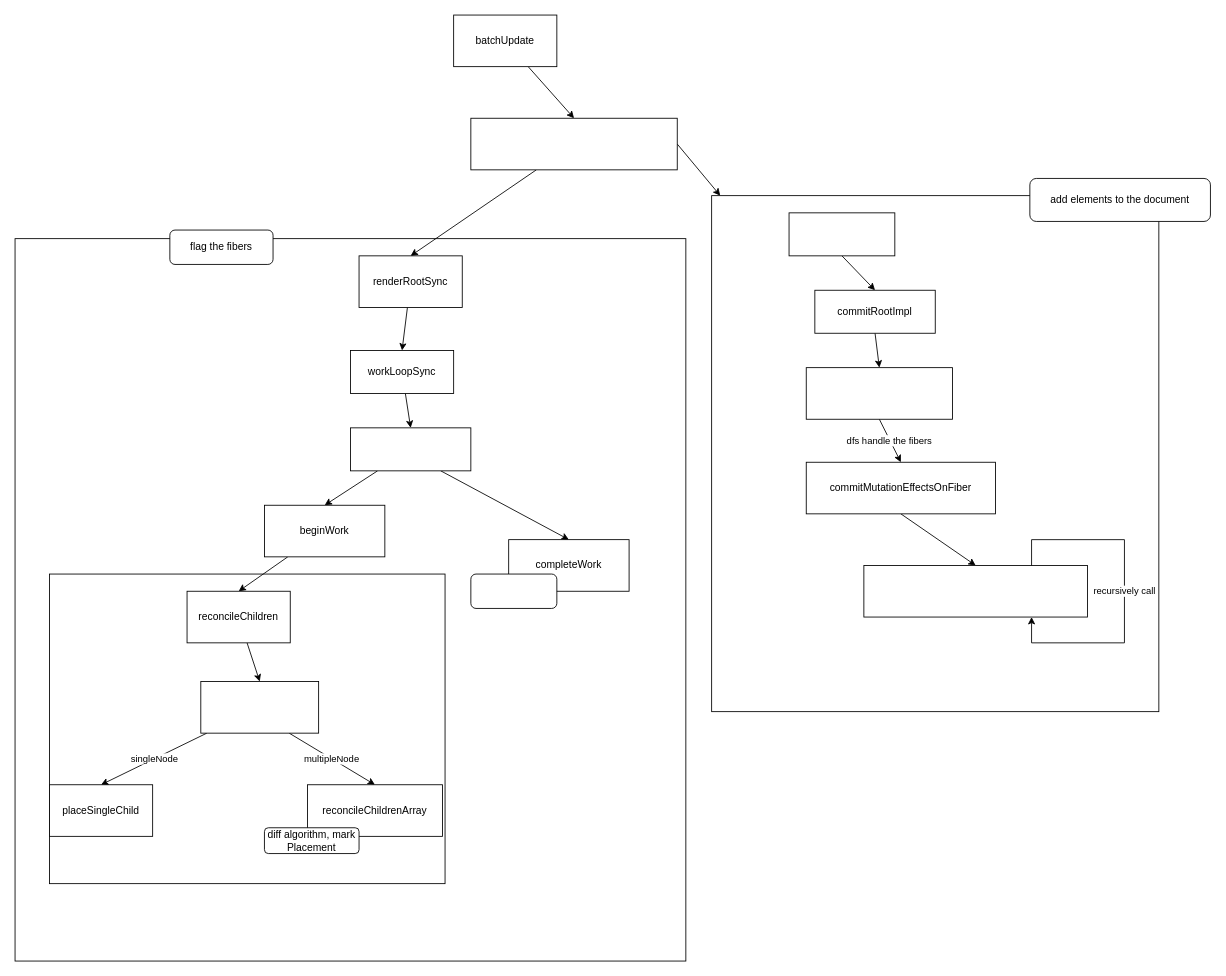
Image size: 1226x976. Some labels were removed from this diagram. Here are the shapes that lost their labels. From the top down, the centre of each, then its label:
At pixel 573 143: "performSyncWorkOnRoot".
At pixel 841 234: "commitRoot".
At pixel 878 393: "commitMutationEffects".
At pixel 410 449: "performUnitOfWork".
At pixel 513 590: "markUpdate".
At pixel 975 591: "recursivelyTraverseMutationEffects".
At pixel 259 707: "reconcileChildFibers".
